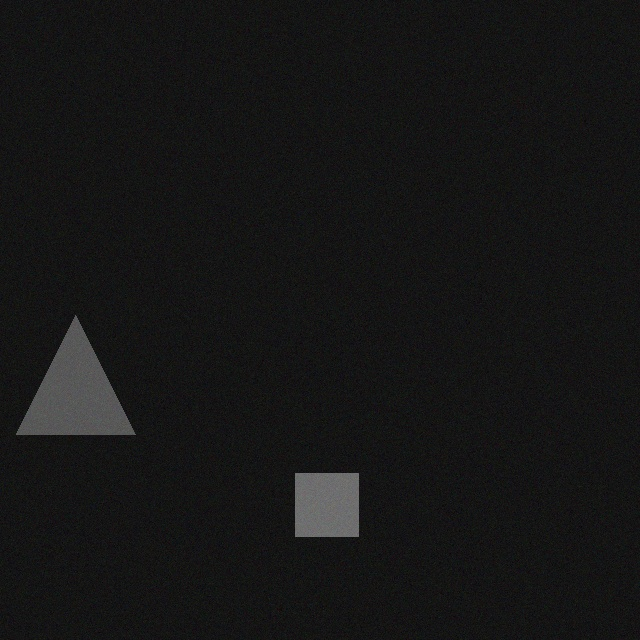square: (290, 468, 353, 531)
triangle: (11, 310, 130, 429)
